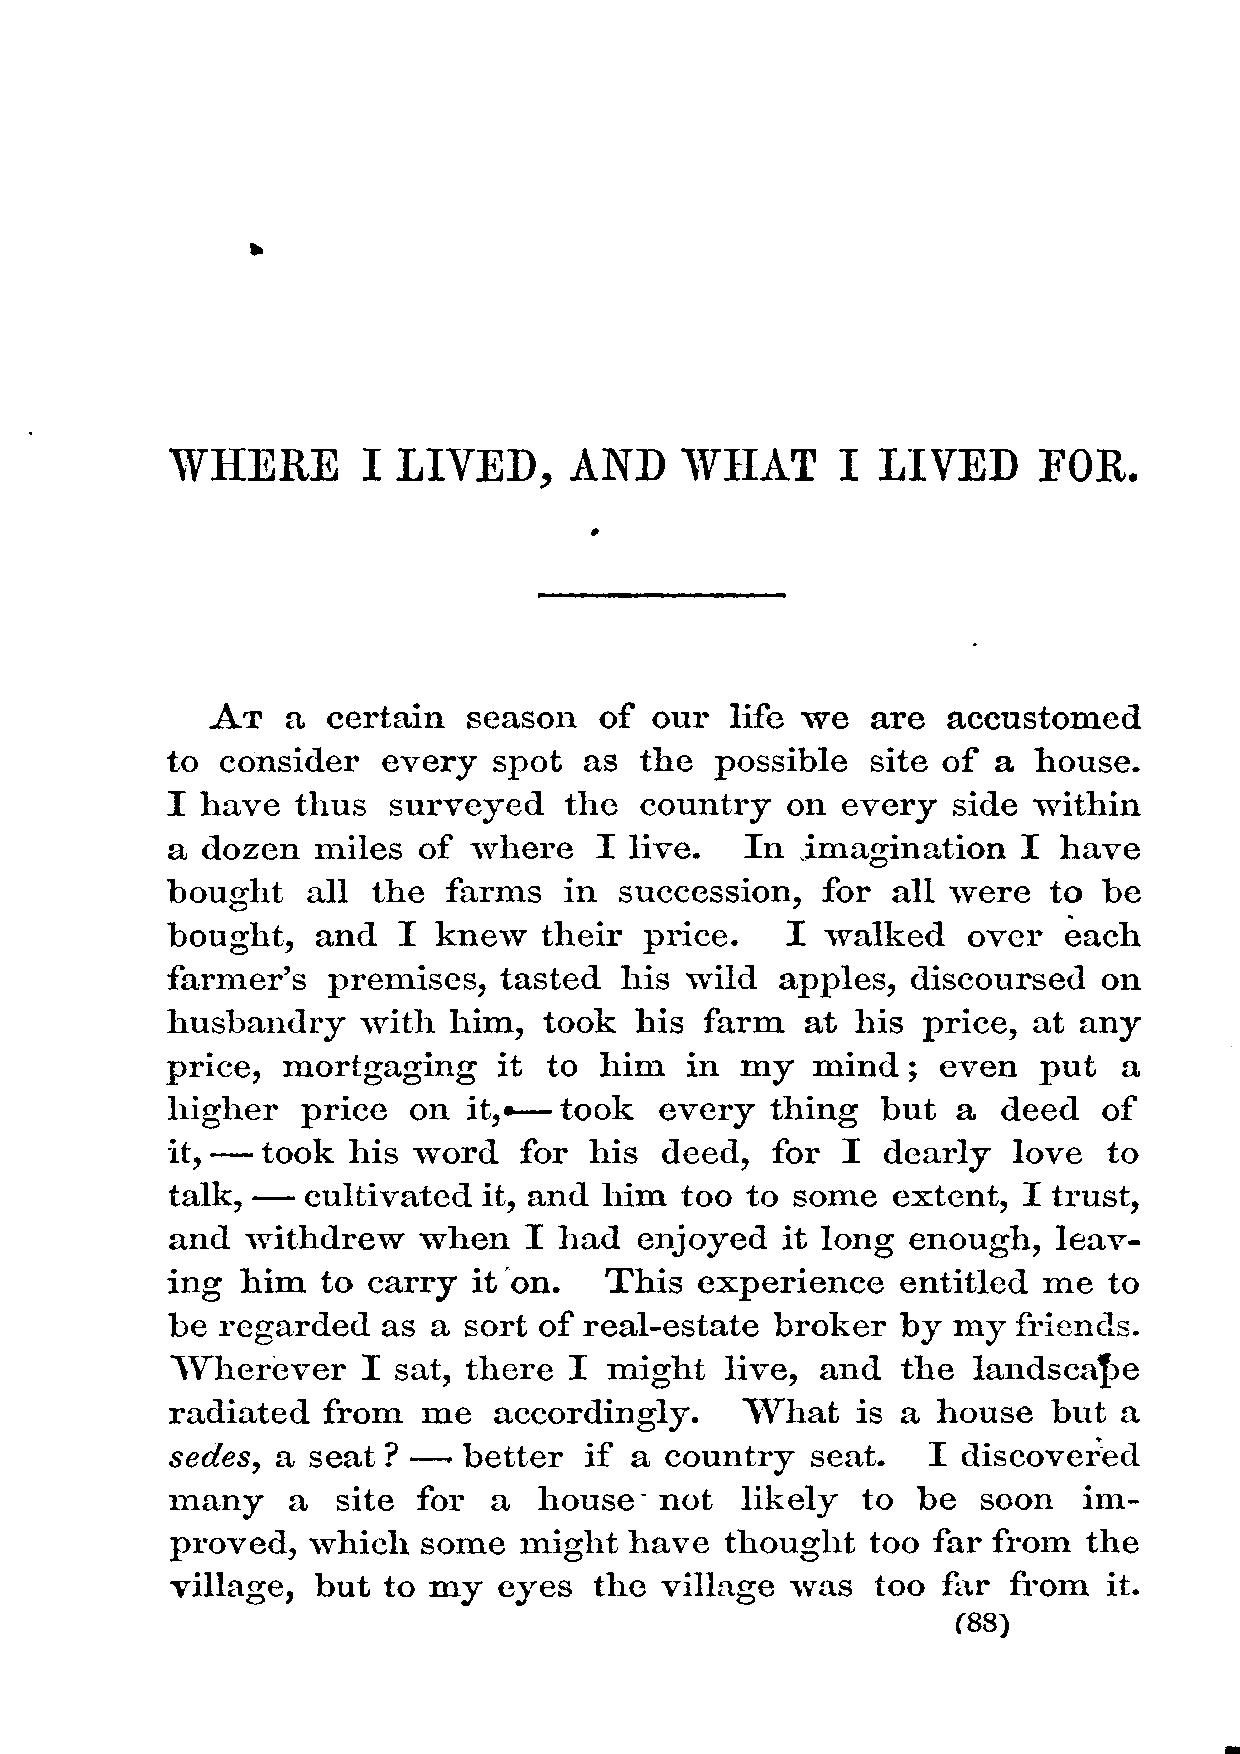chapter: (162, 442, 1137, 488)
content: (162, 699, 1147, 1606)
content_pagenumber: (966, 1610, 998, 1637)
